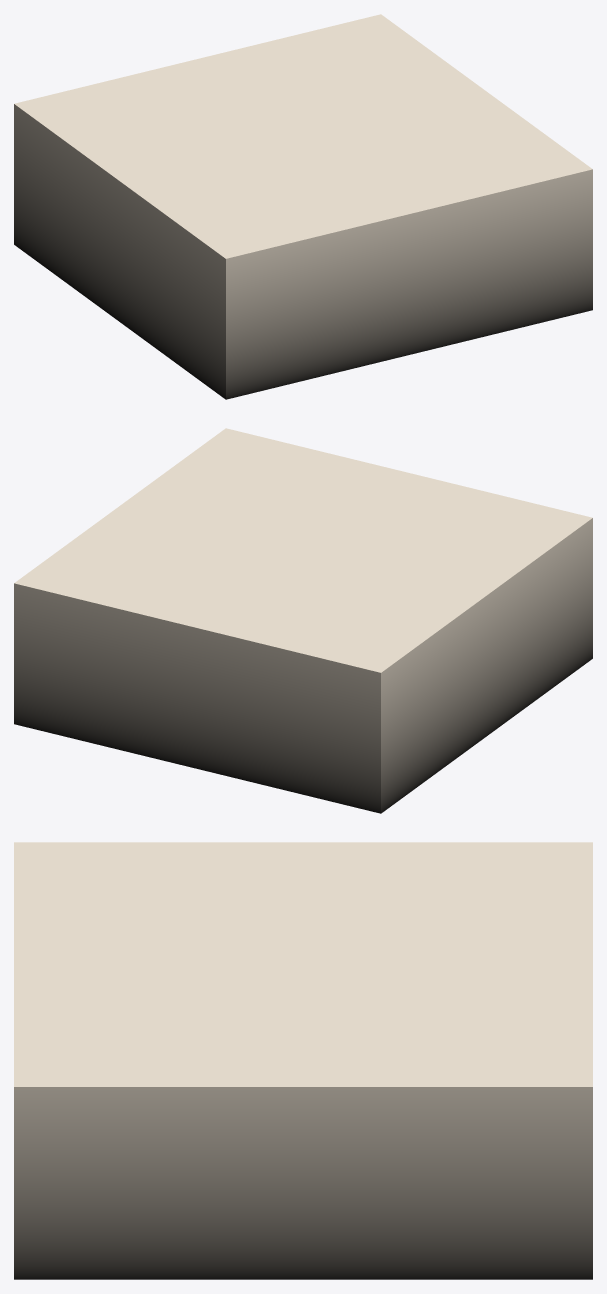
The model's file is SM_VKI_Ground_Lava_XXXX.fbx.
3 views of the same model, one above another, from view 1: azimuth 30°, elevation 25°; view 2: azimuth 150°, elevation 25°; view 3: azimuth 270°, elevation 25° (orthographic). The views are drawn at different scales.
Parts seen in each view (by area): view 1: SM_VKI_Ground_Lava_XXXX.001; view 2: SM_VKI_Ground_Lava_XXXX.001; view 3: SM_VKI_Ground_Lava_XXXX.001.
Boxes of the visible parts, x1,y1,x2,y2 form: SM_VKI_Ground_Lava_XXXX.001: (14, 14, 592, 399); SM_VKI_Ground_Lava_XXXX.001: (14, 428, 592, 813); SM_VKI_Ground_Lava_XXXX.001: (14, 842, 592, 1279).
Size of the model in its own units: 1.5 by 0.55 by 1.5.
